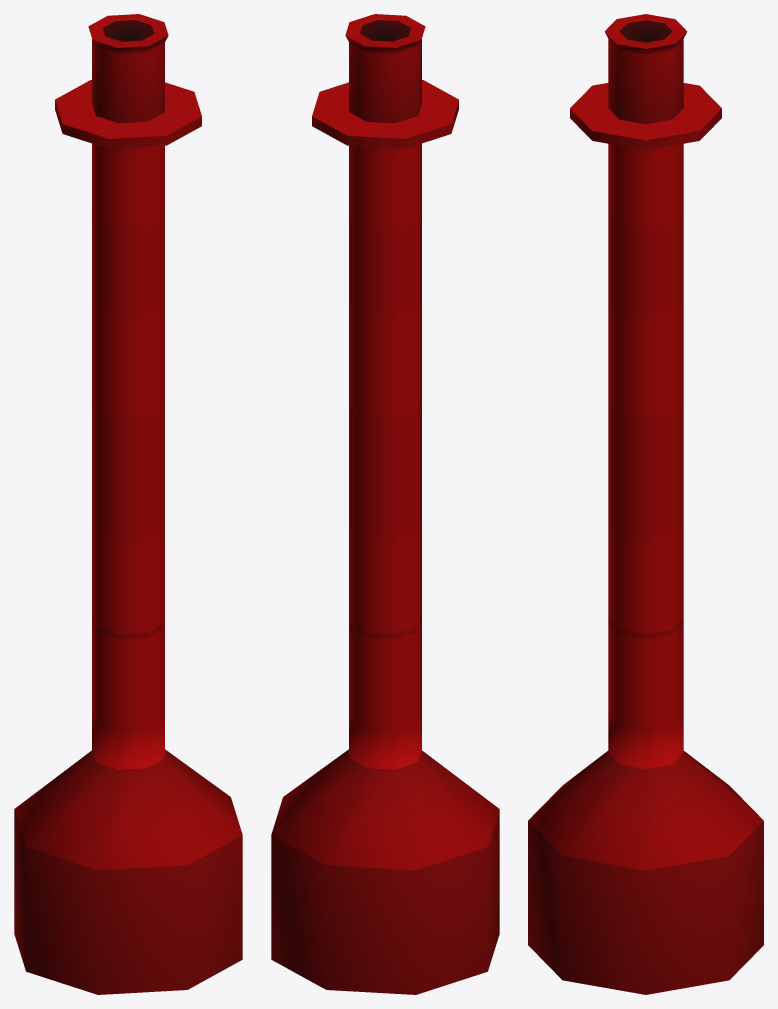
File: buildings-industrial-factorysmokestack_v1.fbx
The picture shows the model from 3 angles, left to right: view 1: azimuth 30°, elevation 25°; view 2: azimuth 150°, elevation 25°; view 3: azimuth 270°, elevation 25°; orthographic projection.
Visible parts, largest first — view 1: FactorySmokestack.001; view 2: FactorySmokestack.001; view 3: FactorySmokestack.001.
Boxes of the visible parts, left/top/right/bottom form: FactorySmokestack.001: left=14, top=14, right=242, bottom=994; FactorySmokestack.001: left=271, top=14, right=499, bottom=994; FactorySmokestack.001: left=528, top=14, right=763, bottom=994.
Size of the model in its own units: 15.37 by 65.68 by 15.37.
